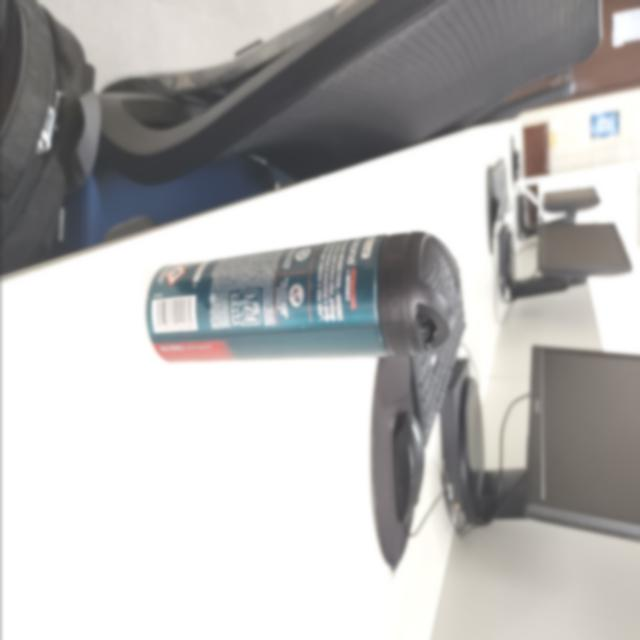Desodorante Azul: (145, 232, 460, 362)
